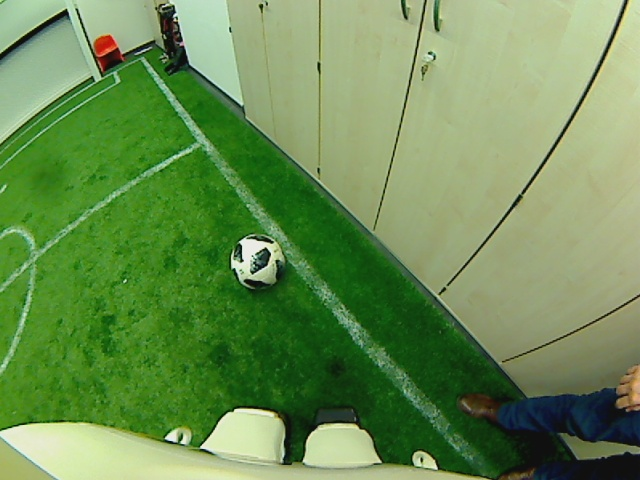ball: (228, 232, 286, 290)
